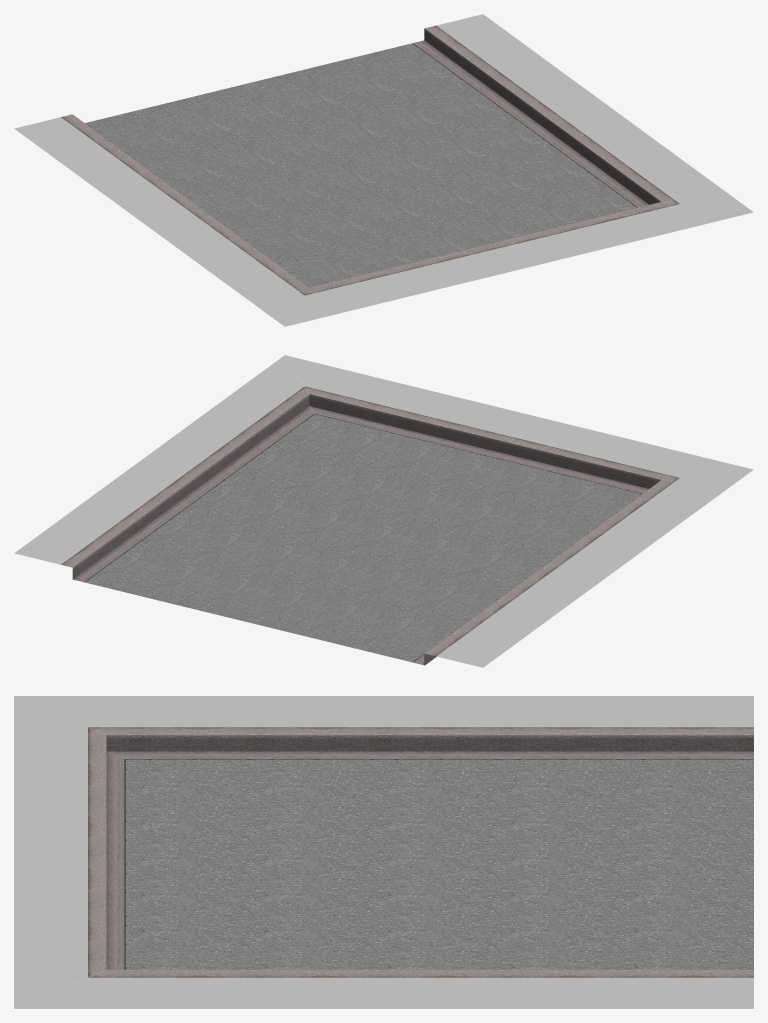
Rendered from roada5.dae.
The picture shows the model from 3 angles, top to bottom: view 1: azimuth 30°, elevation 25°; view 2: azimuth 150°, elevation 25°; view 3: azimuth 270°, elevation 25°; orthographic projection. The views are drawn at different scales.
Visible parts, largest first — view 1: S_Object_001, S_Object_001_7, S_Object_001_5, S_Object_001_3, S_Object_001_4, S_Object_001_2, S_Object_001_11, S_Object_001_6, S_Object_001_1; view 2: S_Object_001, S_Object_001_7, S_Object_001_5, S_Object_001_3, S_Object_001_10, S_Object_001_4, S_Object_001_2, S_Object_001_11, S_Object_001_9, S_Object_001_6, S_Object_001_8, S_Object_001_1; view 3: S_Object_001, S_Object_001_7, S_Object_001_5, S_Object_001_3, S_Object_001_4, S_Object_001_2, S_Object_001_11, S_Object_001_9, S_Object_001_1, S_Object_001_8.
Part boxes in pixels (x1,y1,x2,y2): S_Object_001: (87, 43, 634, 287); S_Object_001_7: (285, 14, 753, 326); S_Object_001_5: (14, 117, 304, 326); S_Object_001_3: (61, 25, 679, 295); S_Object_001_4: (424, 28, 660, 204); S_Object_001_2: (413, 40, 648, 207); S_Object_001_11: (305, 202, 678, 295); S_Object_001_6: (411, 43, 637, 208); S_Object_001_1: (85, 122, 310, 287); S_Object_001: (87, 415, 638, 661); S_Object_001_7: (14, 355, 753, 564); S_Object_001_5: (436, 469, 753, 667); S_Object_001_3: (61, 386, 679, 656); S_Object_001_10: (309, 394, 660, 488); S_Object_001_4: (72, 394, 436, 665); S_Object_001_2: (73, 406, 424, 665); S_Object_001_11: (305, 386, 678, 479); S_Object_001_9: (310, 406, 648, 493); S_Object_001_6: (84, 414, 315, 582); S_Object_001_8: (315, 414, 641, 494); S_Object_001_1: (411, 494, 641, 662); S_Object_001: (128, 760, 753, 969); S_Object_001_7: (14, 696, 753, 1008); S_Object_001_5: (14, 696, 753, 727); S_Object_001_3: (88, 727, 753, 977); S_Object_001_4: (106, 735, 753, 751); S_Object_001_2: (107, 751, 753, 759); S_Object_001_11: (88, 727, 106, 977); S_Object_001_9: (106, 752, 124, 969); S_Object_001_1: (126, 759, 753, 760); S_Object_001_8: (125, 759, 128, 969).
Size of the model in its own units: 2 by 0.05 by 2.
